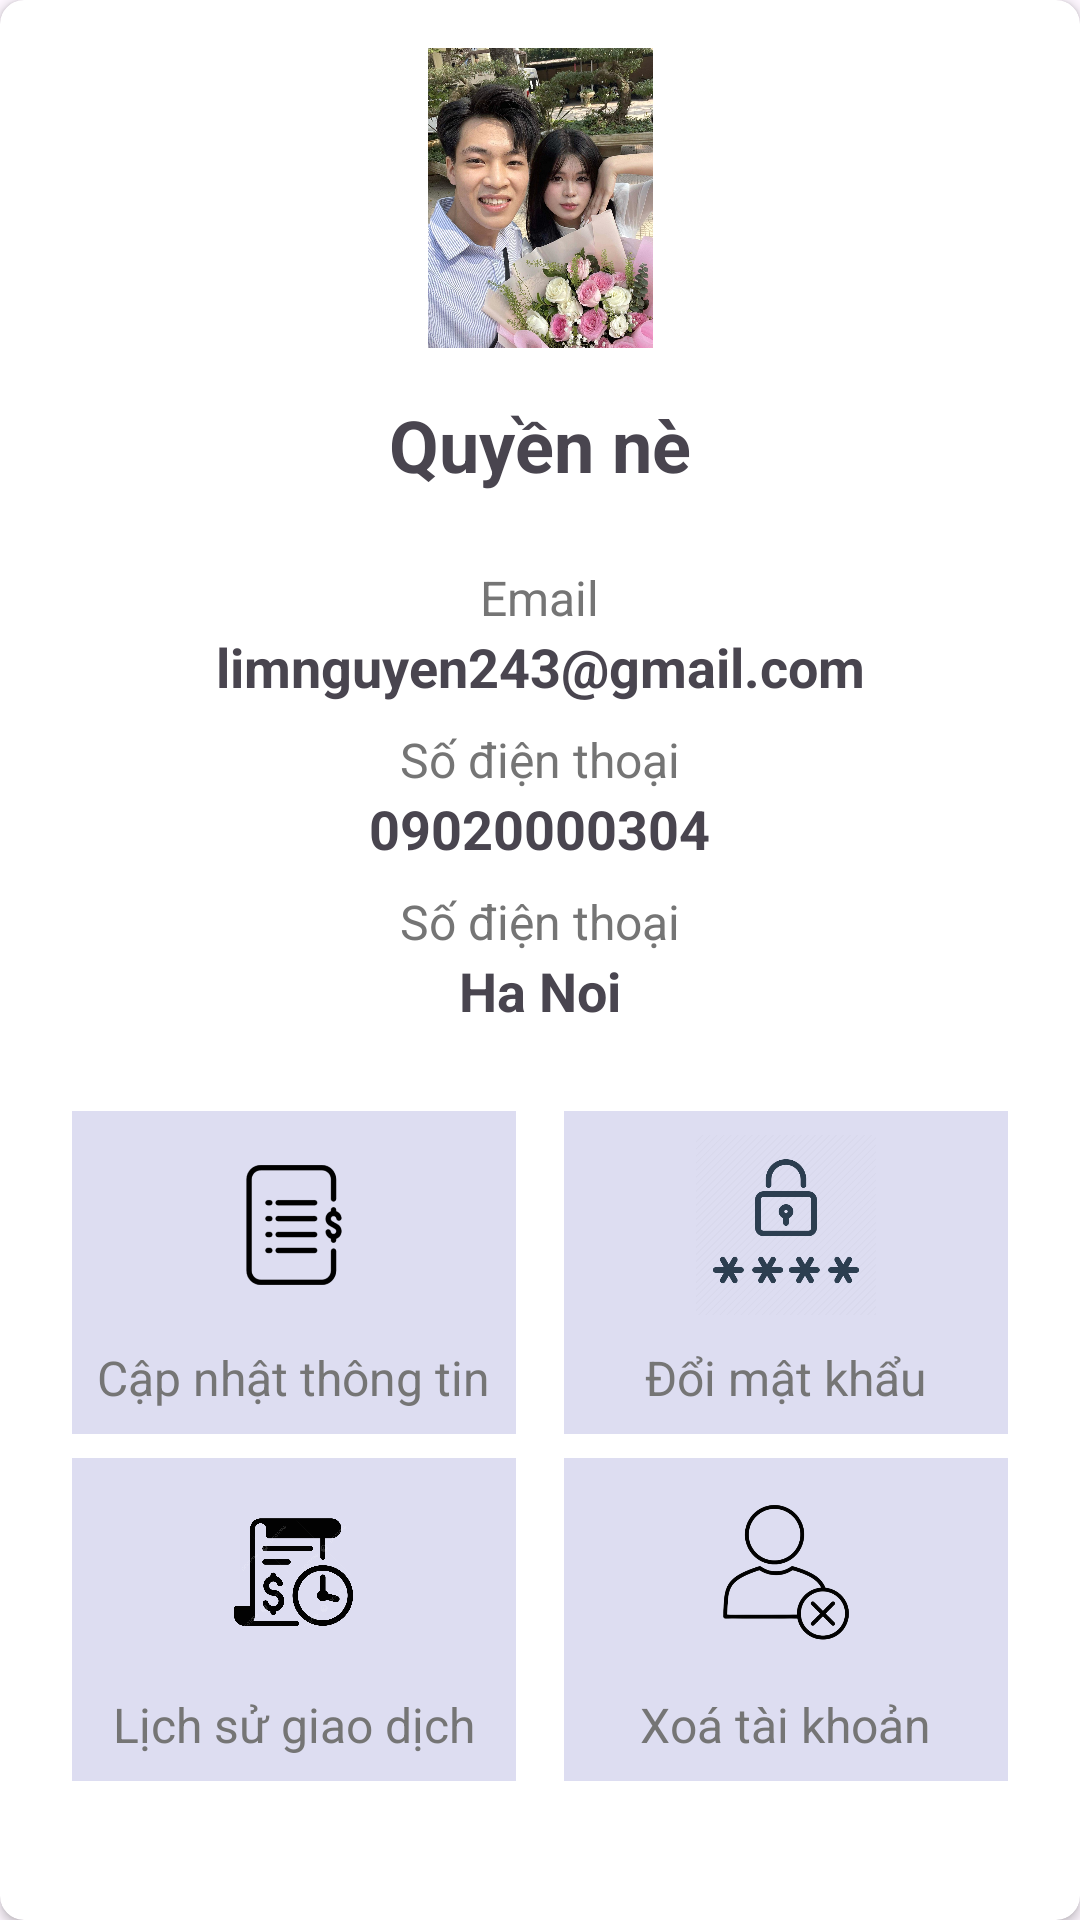

Screen size 1080×1920. Icon name, then its center in pixels as (x=x, y=y):
deleteuser: (x=786, y=1572)
history: (x=293, y=1572)
invoice: (x=294, y=1225)
pass: (x=786, y=1221)
Profile Image: (x=540, y=198)
